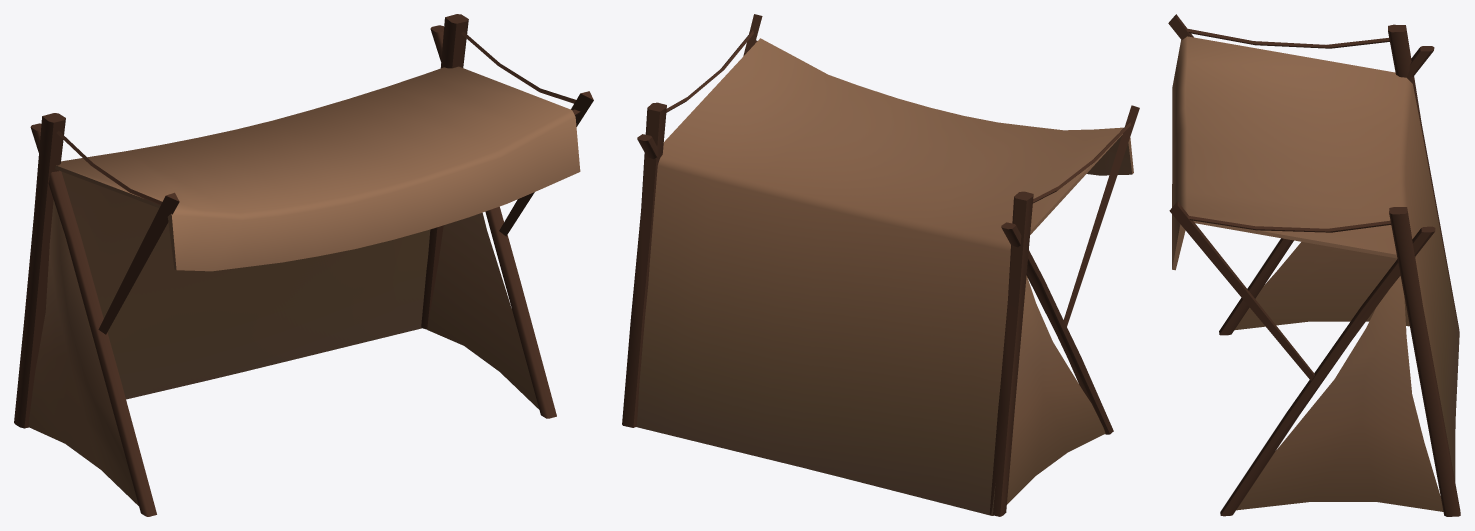
Rendered from Tent_2.fbx.
3 renders of one model, left to right at view 1: azimuth 30°, elevation 25°; view 2: azimuth 150°, elevation 25°; view 3: azimuth 270°, elevation 25°, orthographic. The views are drawn at different scales.
Parts seen in each view (by area): view 1: Tent_2; view 2: Tent_2; view 3: Tent_2.
Boxes of the visible parts, box(x1,y1,x2,y2) form: Tent_2: box(14, 14, 593, 516); Tent_2: box(622, 14, 1139, 516); Tent_2: box(1168, 14, 1460, 516).
Bounding box in the file's own units: 285 × 219 × 184.
